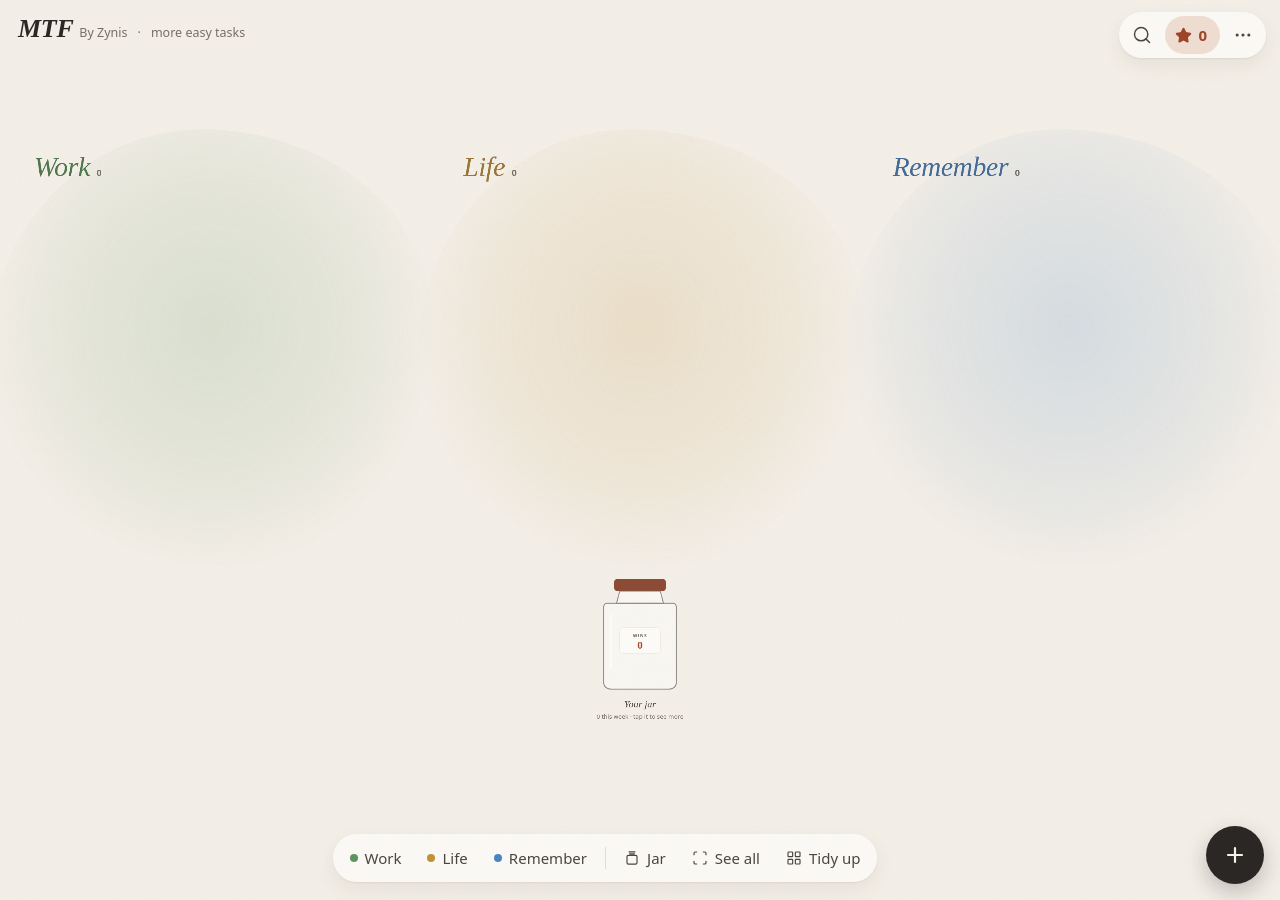
Scenario: App › the theme selector reads Theme · System · Light · Dark in English
Click the button named "Settings". click: click(1243, 35)
box: [1224,16,1262,54]
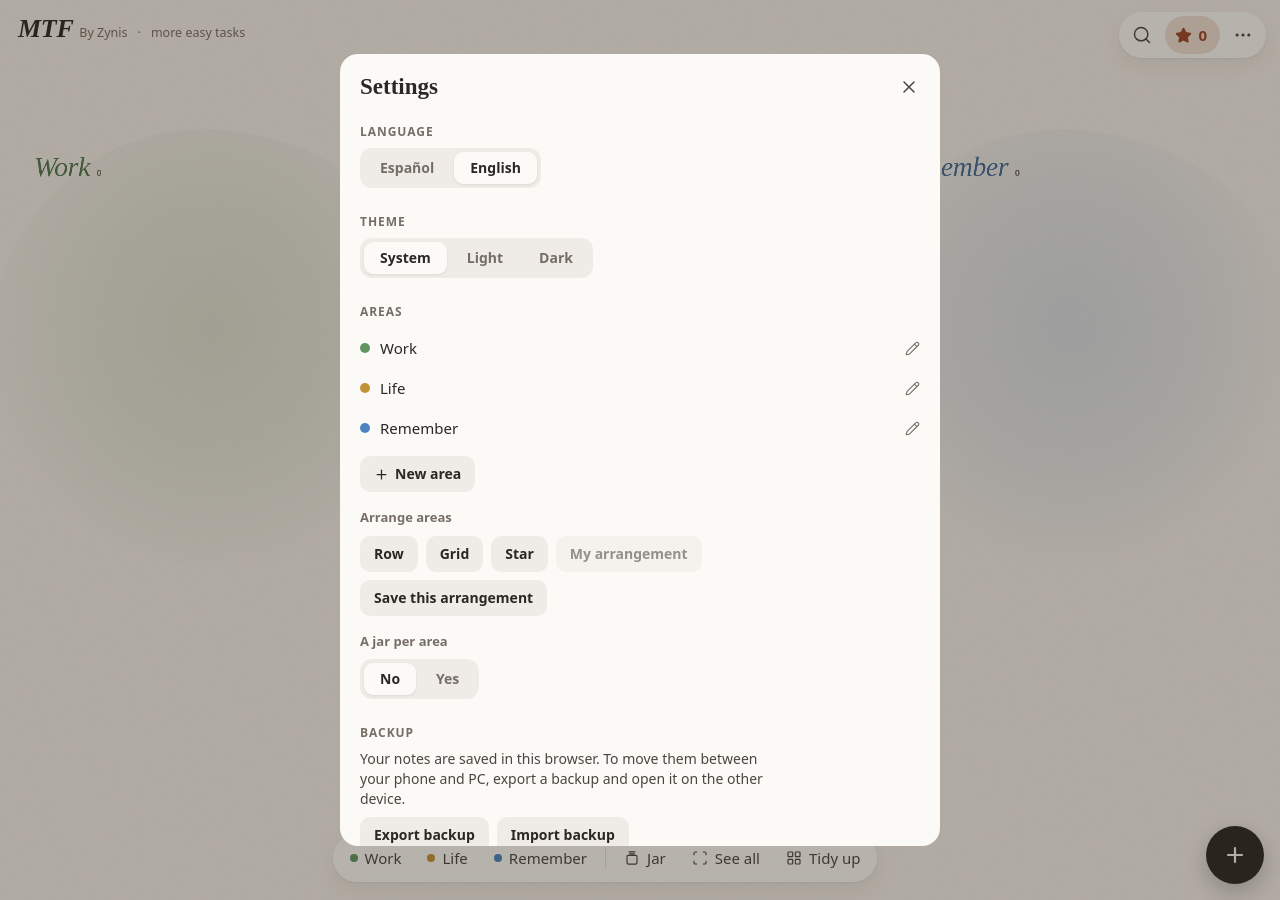
Expected: the buttons read "System", "Light", "Dark", in this order, [364,242,447,274]; [451,242,519,274]; [523,242,589,274]
